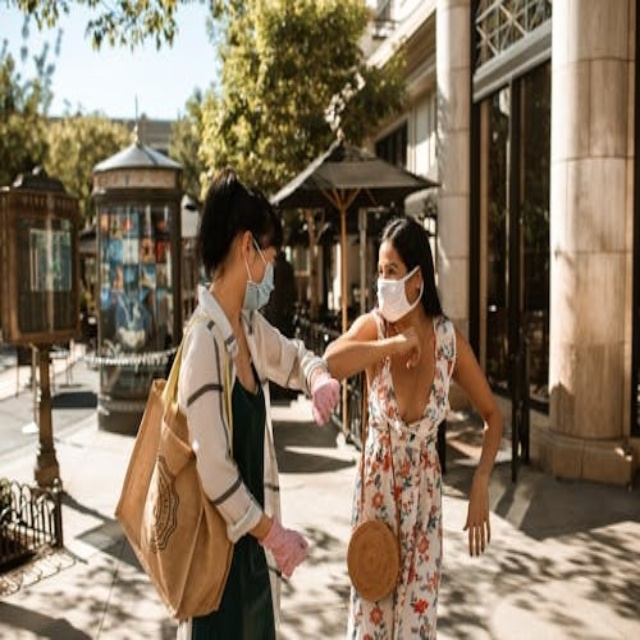Guantes: (261, 515, 309, 580), (310, 371, 341, 426)
Mascara: (377, 268, 423, 322), (241, 238, 275, 311)
Sin_gafas: (375, 254, 401, 279)
Sin_guantes: (462, 478, 491, 556), (393, 326, 422, 372)
